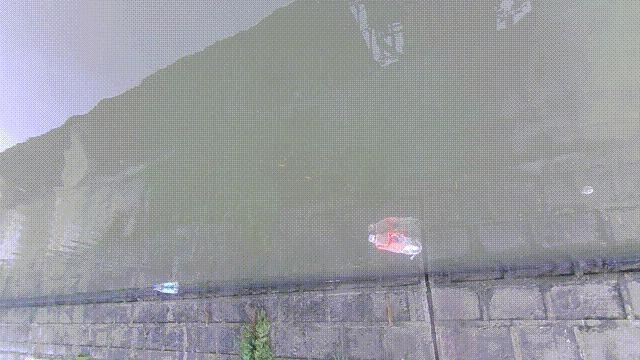Plastic: (364, 227, 423, 255), (151, 281, 183, 294)
